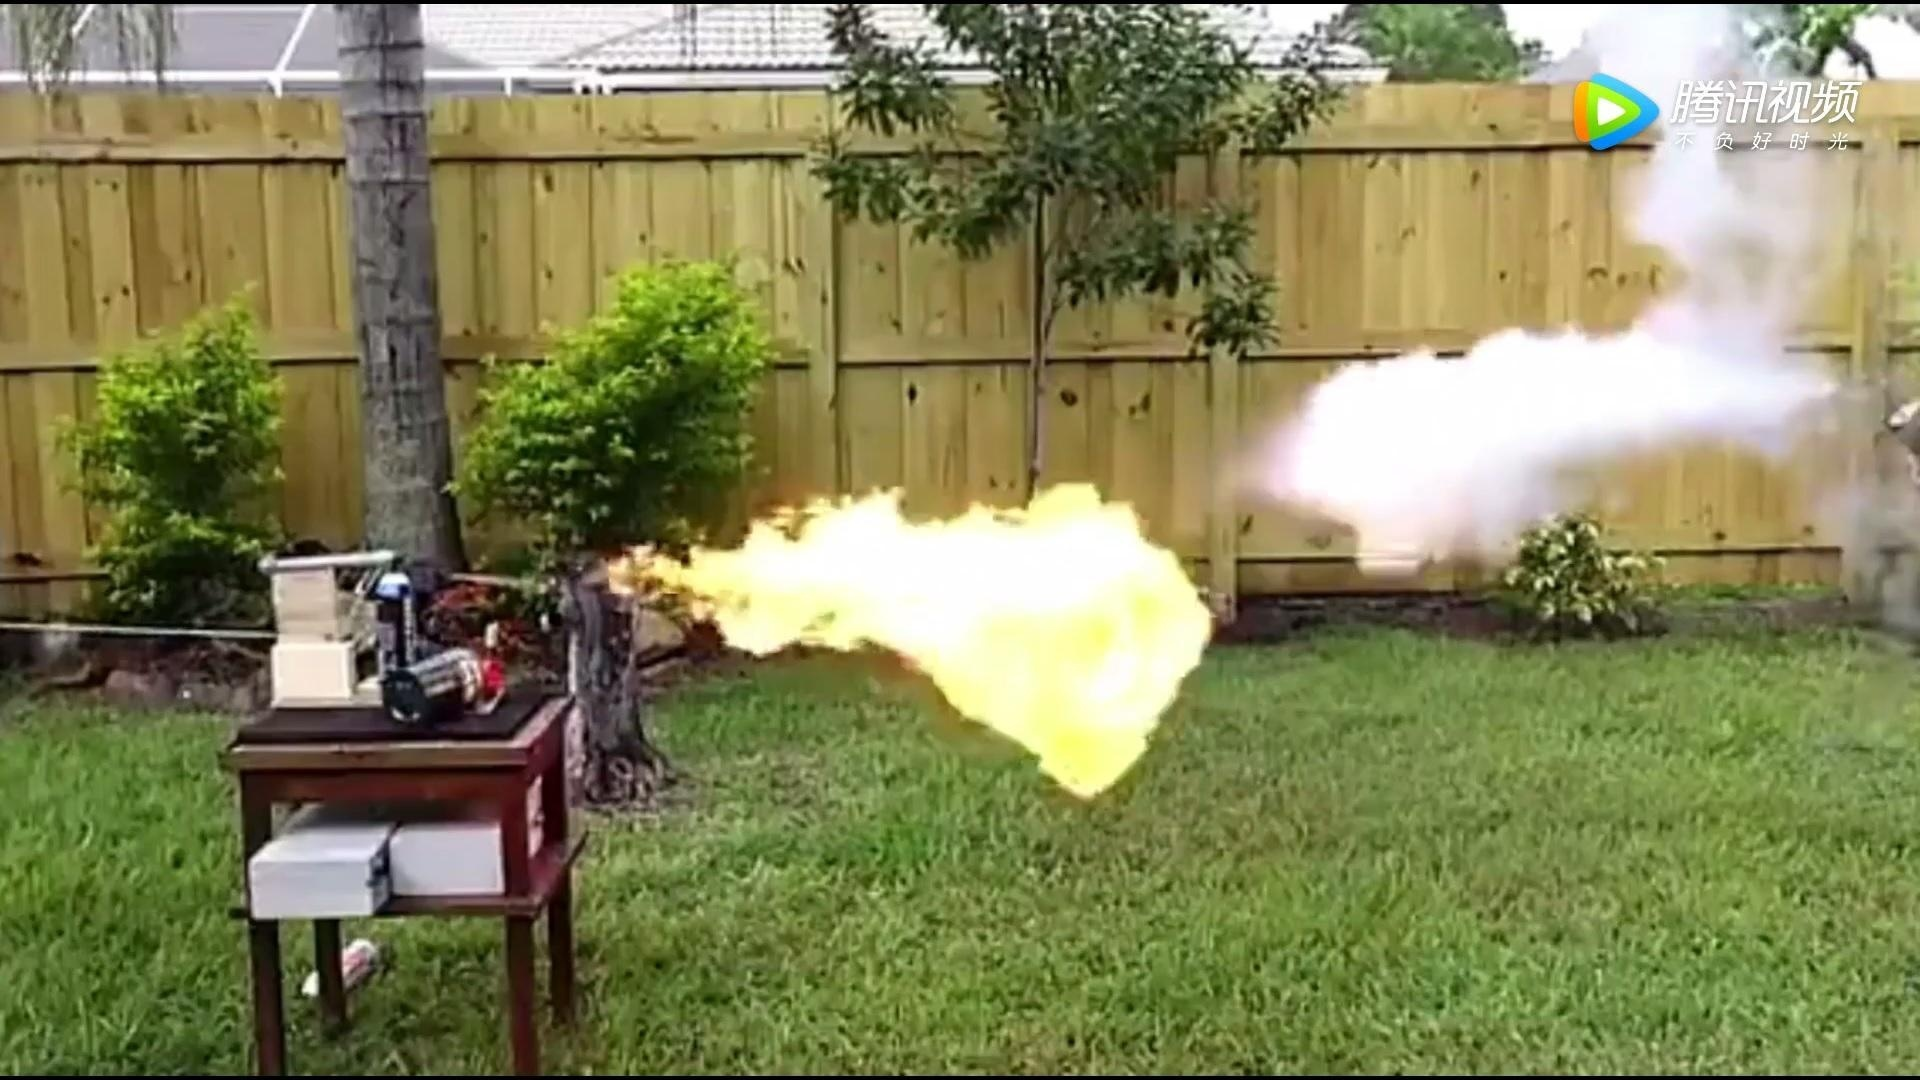fire: (601, 469, 1226, 795)
